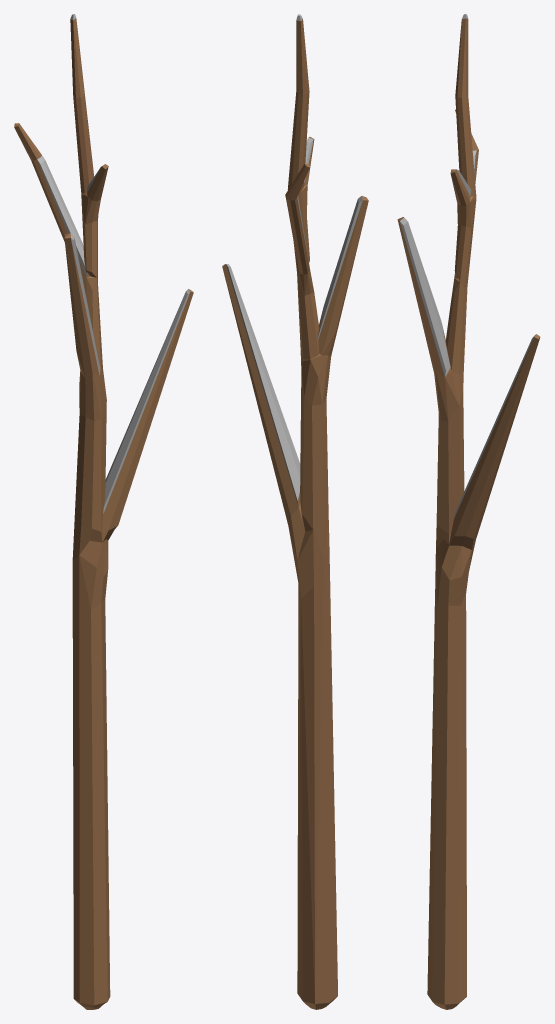
The model's file is Tree_6 Winter.fbx.
The picture shows the model from 3 angles, left to right: view 1: azimuth 30°, elevation 25°; view 2: azimuth 150°, elevation 25°; view 3: azimuth 330°, elevation 25°; orthographic projection. The views are drawn at different scales.
Visible parts, largest first — view 1: Tree6Winter_mesh; view 2: Tree6Winter_mesh; view 3: Tree6Winter_mesh.
Part boxes in pixels (x1,y1,x2,y2): Tree6Winter_mesh: (14,14,193,1009); Tree6Winter_mesh: (222,14,368,1009); Tree6Winter_mesh: (397,14,540,1009).
Size of the model in its own units: 86.34 by 598 by 63.51.
